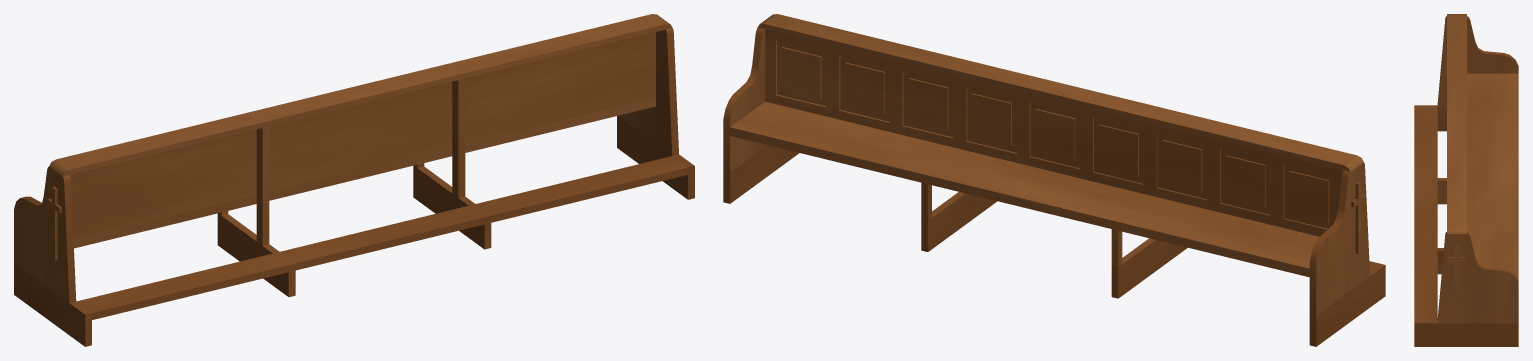
File: Silla_Principal.fbx
The picture shows the model from 3 angles, left to right: view 1: azimuth 30°, elevation 25°; view 2: azimuth 150°, elevation 25°; view 3: azimuth 270°, elevation 25°; orthographic projection. The views are drawn at different scales.
Visible parts, largest first — view 1: Cube.033, Cube.036, Cube.013, Cube.003, Cube.004; view 2: Cube.037, Cube.033, Cube.013, Cube.003, Cube.004, Cube.036; view 3: Cube.033, Cube.036, Cube.003, Cube.013, Cube.004, Cube.
Part boxes in pixels (x1=…): Cube.033: x1=70, y1=32, x2=655, y2=248; Cube.036: x1=14, y1=116, x2=694, y2=346; Cube.013: x1=49, y1=14, x2=672, y2=176; Cube.003: x1=14, y1=28, x2=678, y2=302; Cube.004: x1=217, y1=78, x2=491, y2=296; Cube.037: x1=765, y1=29, x2=1343, y2=236; Cube.033: x1=730, y1=101, x2=1319, y2=277; Cube.013: x1=757, y1=14, x2=1363, y2=171; Cube.003: x1=723, y1=27, x2=1369, y2=315; Cube.004: x1=921, y1=182, x2=1187, y2=298; Cube.036: x1=723, y1=145, x2=1385, y2=346; Cube.033: x1=1467, y1=73, x2=1518, y2=280; Cube.036: x1=1414, y1=105, x2=1518, y2=346; Cube.003: x1=1437, y1=16, x2=1518, y2=323; Cube.013: x1=1447, y1=14, x2=1466, y2=233; Cube.004: x1=1437, y1=178, x2=1446, y2=274; Cube: x1=1448, y1=246, x2=1465, y2=299.
Size of the model in its own units: 359 by 89 by 72.
